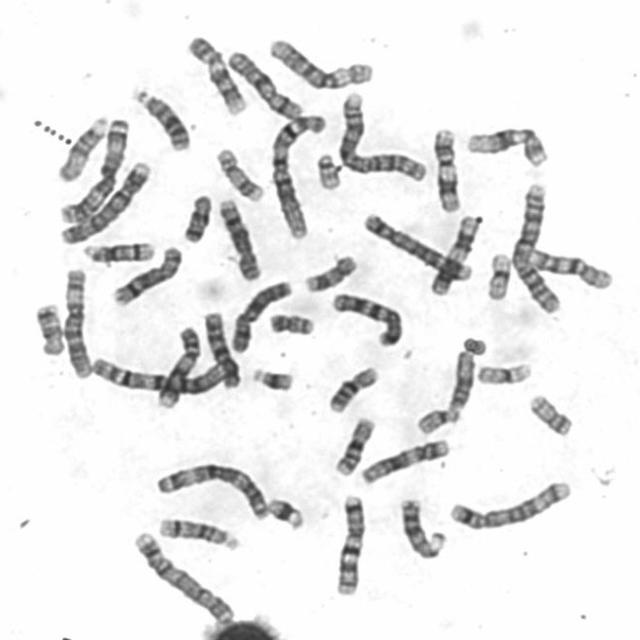A1: (264, 108, 328, 242), (85, 351, 230, 397)
A2: (333, 88, 430, 183), (506, 178, 564, 315)
A3: (54, 113, 131, 225), (149, 455, 271, 522)
B4: (127, 526, 238, 627), (55, 156, 153, 246)
B5: (358, 208, 472, 283), (444, 475, 574, 532)
C10: (525, 243, 614, 292), (199, 307, 243, 390)
C11: (425, 210, 482, 298), (428, 123, 463, 214)
C12: (356, 434, 452, 486), (462, 121, 550, 169)
C6: (263, 33, 376, 90), (58, 263, 94, 380)
C7: (326, 288, 404, 348), (330, 490, 367, 598)
C8: (106, 241, 184, 308), (212, 193, 263, 282)
C9: (182, 32, 248, 116), (152, 321, 202, 410)
D13: (128, 82, 192, 152), (395, 492, 448, 562)
D14: (152, 512, 242, 552), (78, 237, 157, 264)
D15: (52, 110, 110, 183), (442, 346, 477, 412)
E16: (329, 412, 377, 477), (324, 362, 381, 414)
E17: (211, 143, 265, 204), (299, 250, 359, 293)
E18: (30, 298, 66, 357), (177, 190, 214, 244)
F19: (481, 247, 514, 302), (472, 358, 534, 386)
F20: (524, 389, 575, 438), (263, 308, 316, 337)
G21: (262, 492, 306, 532), (246, 362, 296, 393)
G22: (411, 404, 463, 436), (312, 148, 343, 191)
X: (222, 46, 305, 120), (225, 276, 294, 354)
